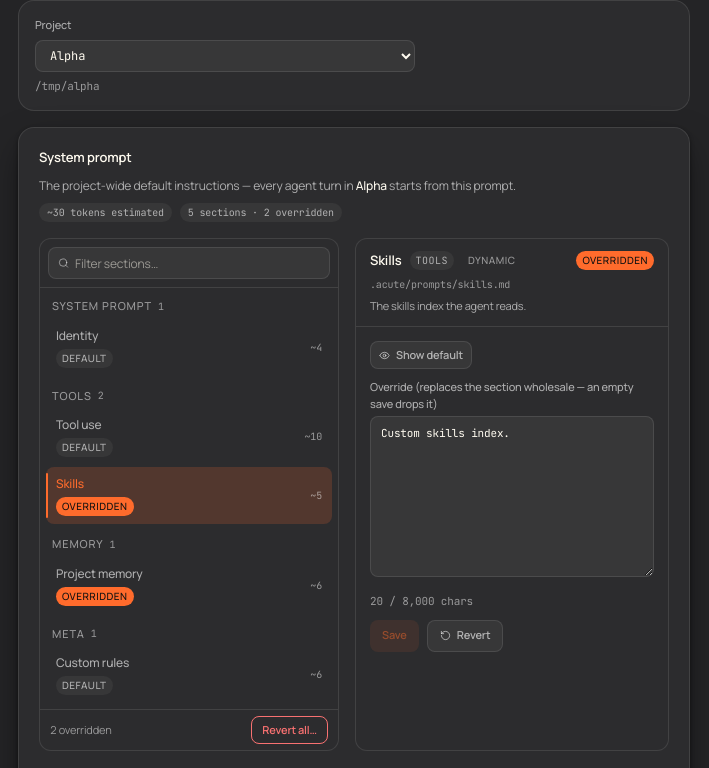
Test case: PromptsTab (ROUND-99 R99-F — the project-wide system prompt redesign) › R117-b: an overridden project-memory shows the live-memory warning; other overridden sections do not
expect the text box named "Edit the override for skills" is shown: met, box [370,416,654,577]
Selecting the OVERRIDDEN project-memory row shows the warning pill.
Click the button with aria-label "Select section project-memory" at (99, 573), box [46,556,332,614]
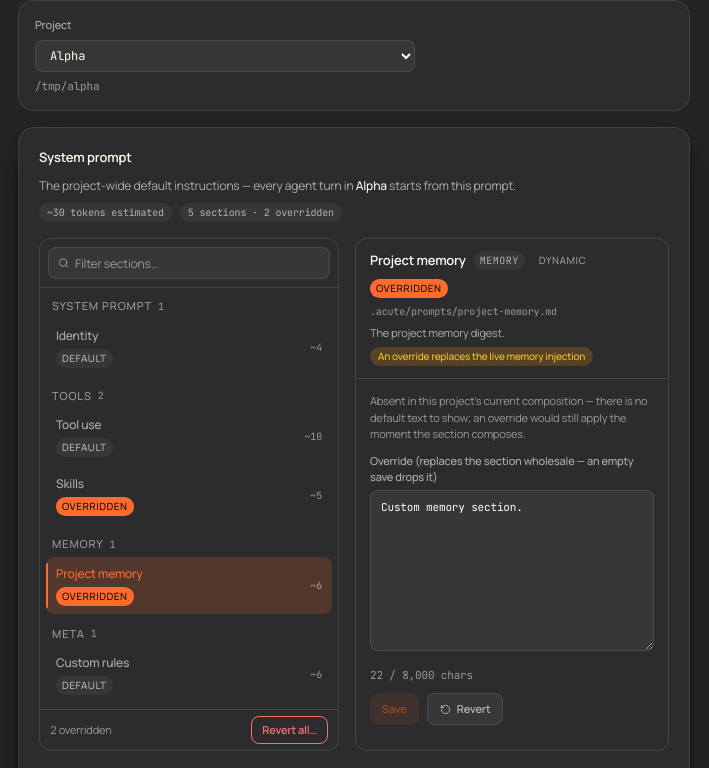
expect the text "An override replaces the live memory injection" is shown: met, box [370,347,593,366]
expect the text with test id "prompt-memory-override-warning" reads "An override replaces the live memory injection": met, box [378,349,585,363]
